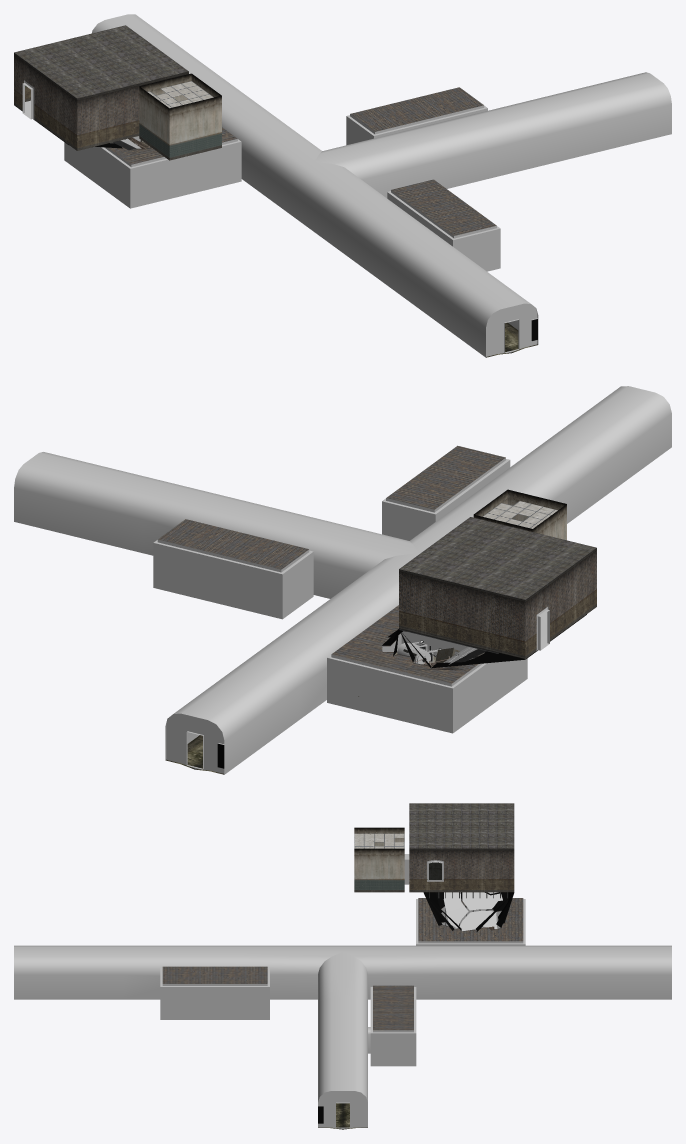
Rendered from TunnelSpace_EnterRoom.FBX.
The picture shows the model from 3 angles, top to bottom: view 1: azimuth 30°, elevation 25°; view 2: azimuth 150°, elevation 25°; view 3: azimuth 270°, elevation 25°; orthographic projection. The views are drawn at different scales.
Parts seen in each view (by area): view 1: TunnelSpace_EnterTunnels, TunnelSpace_EnterRoom; view 2: TunnelSpace_EnterTunnels, TunnelSpace_EnterRoom; view 3: TunnelSpace_EnterTunnels, TunnelSpace_EnterRoom.
Part boxes in pixels (bbox=[...]): TunnelSpace_EnterTunnels: bbox=[91, 14, 671, 357]; TunnelSpace_EnterRoom: bbox=[14, 25, 241, 208]; TunnelSpace_EnterTunnels: bbox=[14, 386, 671, 774]; TunnelSpace_EnterRoom: bbox=[327, 489, 596, 733]; TunnelSpace_EnterTunnels: bbox=[14, 945, 671, 1129]; TunnelSpace_EnterRoom: bbox=[354, 803, 525, 945].
Size of what is drawn, in the model's own units: 4488 by 1024 by 5669.
